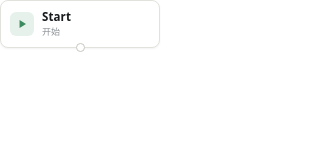
Test: 画布内节点重命名（R6-3） › Esc 取消编辑，不写入
The image size is (320, 160).
Double-click the button "Start 开始" at (80, 24), box [0,0,160,48]
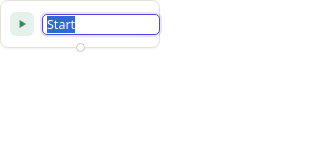
Replace the text in the field named "节点名称" with "不要这个" at (101, 24), box [42,14,160,34]
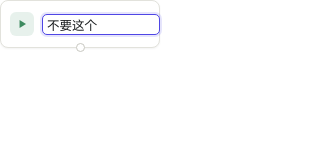
Press Escape in the field named "节点名称", box [42,14,160,34]
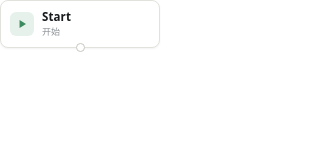
Now the text "Start" is shown, box [42,10,71,24]
